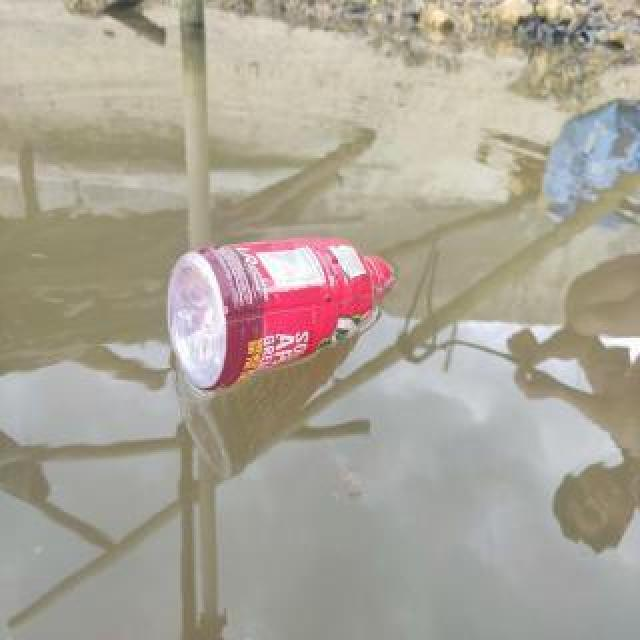bottle: (164, 225, 408, 402)
